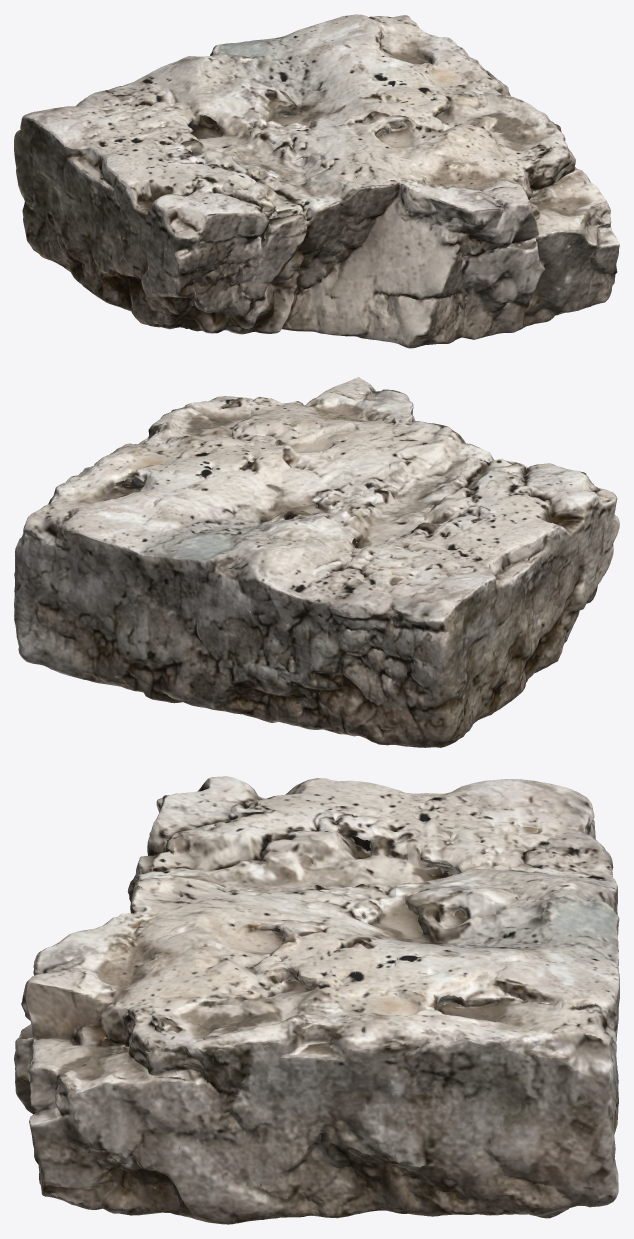
File: limestone-ledge-v13.glb
3 renders of one model, top to bottom at view 1: azimuth 30°, elevation 25°; view 2: azimuth 150°, elevation 25°; view 3: azimuth 270°, elevation 25°, orthographic. The views are drawn at different scales.
Visible parts, largest first — view 1: geometry_0; view 2: geometry_0; view 3: geometry_0.
Boxes of the visible parts, box(x1,y1,x2,y2) form: geometry_0: box(14, 14, 619, 348); geometry_0: box(14, 377, 619, 747); geometry_0: box(14, 776, 619, 1224).
Bounding box in the file's own units: 0.45 × 0.1712 × 0.4489.
1 material, 1 textured.
